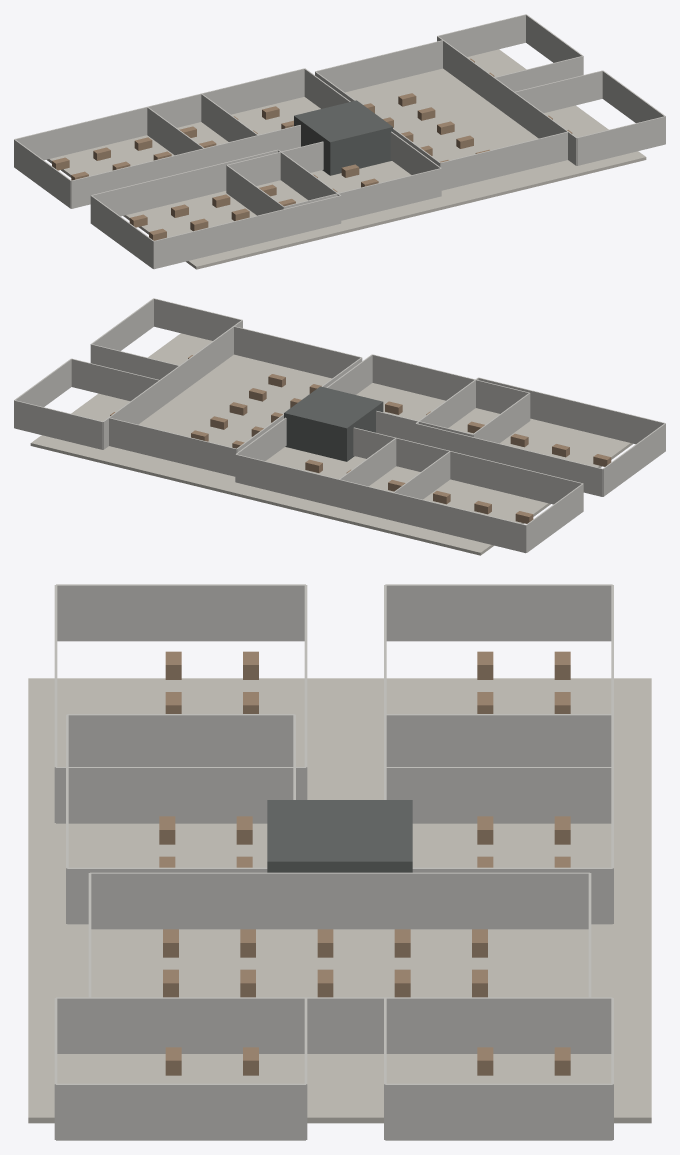
The picture shows the model from 3 angles, top to bottom: view 1: azimuth 30°, elevation 25°; view 2: azimuth 150°, elevation 25°; view 3: azimuth 270°, elevation 25°; orthographic projection. The views are drawn at different scales.
Visible parts, largest first — view 1: L3_slab, hr_north, L3_core, people_wellbeing_south, hr_south, focus_quiet_north, operations_south, focus_quiet_south, finance_north, people_wellbeing_north, focus_quiet_east, meeting_records_north (+17 smaller); view 2: L3_slab, people_wellbeing_south, L3_core, hr_south, finance_north, focus_quiet_south, hr_north, people_wellbeing_north, operations_south, focus_quiet_north, focus_quiet_east, informal_breakout_south (+17 smaller); view 3: L3_slab, focus_quiet_west, focus_quiet_east, meeting_records_east, hr_west, informal_breakout_east, people_wellbeing_west, hr_east, people_wellbeing_east, finance_west, operations_west, L3_core (+5 smaller).
Part boxes in pixels (left/top/right/bottom): L3_slab: left=46, top=49, right=646, bottom=269; hr_north: left=153, top=195, right=340, bottom=269; L3_core: left=294, top=100, right=392, bottom=175; people_wellbeing_south: left=14, top=93, right=201, bottom=160; hr_south: left=91, top=149, right=277, bottom=216; focus_quiet_north: left=440, top=131, right=567, bottom=190; operations_south: left=149, top=68, right=304, bottom=126; focus_quiet_south: left=315, top=40, right=443, bottom=92; finance_north: left=283, top=168, right=441, bottom=220; people_wellbeing_north: left=71, top=135, right=258, bottom=208; focus_quiet_east: left=443, top=40, right=568, bottom=138; meeting_records_north: left=577, top=116, right=665, bottom=165; L3_slab: left=30, top=333, right=633, bottom=555; people_wellbeing_south: left=339, top=480, right=526, bottom=553; L3_core: left=284, top=386, right=383, bottom=461; hr_south: left=415, top=423, right=602, bottom=496; finance_north: left=372, top=354, right=529, bottom=413; focus_quiet_south: left=109, top=418, right=236, bottom=476; hr_north: left=478, top=377, right=665, bottom=444; people_wellbeing_north: left=397, top=438, right=582, bottom=504; operations_south: left=235, top=454, right=393, bottom=520; focus_quiet_north: left=234, top=326, right=361, bottom=378; focus_quiet_east: left=109, top=326, right=233, bottom=424; informal_breakout_south: left=14, top=400, right=102, bottom=449; L3_slab: left=28, top=678, right=651, bottom=1123; focus_quiet_west: left=90, top=872, right=589, bottom=929; focus_quiet_east: left=90, top=997, right=589, bottom=1053; meeting_records_east: left=56, top=1083, right=305, bottom=1140; hr_west: left=56, top=584, right=305, bottom=641; informal_breakout_east: left=385, top=1083, right=612, bottom=1140; people_wellbeing_west: left=385, top=584, right=612, bottom=641; hr_east: left=56, top=767, right=305, bottom=823; people_wellbeing_east: left=385, top=767, right=612, bottom=823; finance_west: left=67, top=714, right=294, bottom=766; operations_west: left=385, top=714, right=611, bottom=766; L3_core: left=267, top=800, right=412, bottom=872.
Bounding box in the file's own units: 52.12 × 3.54 × 27.43.
